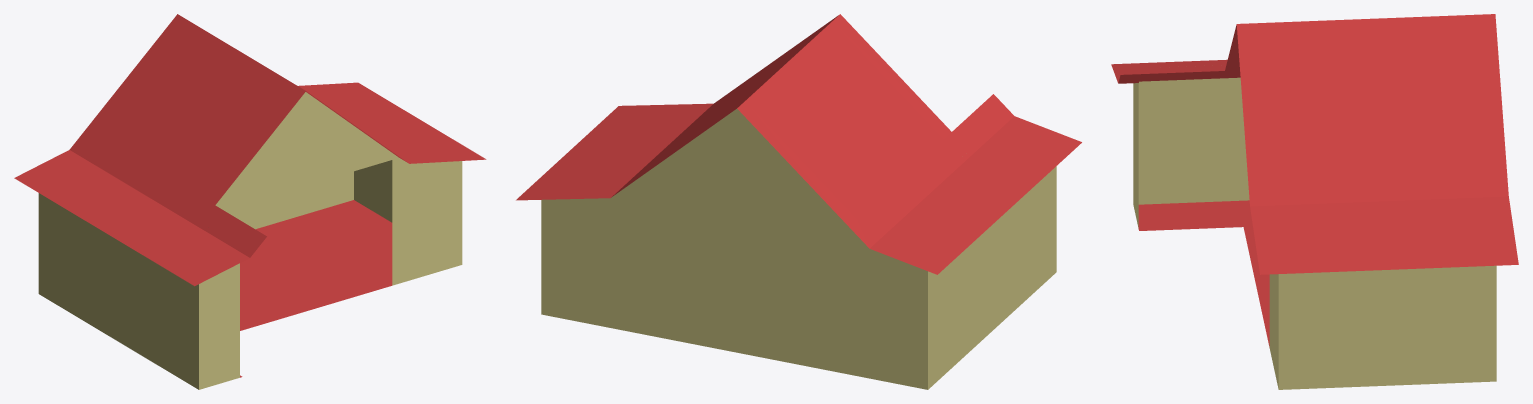
3 views of the same model, side by side, from view 1: azimuth 30°, elevation 25°; view 2: azimuth 150°, elevation 25°; view 3: azimuth 270°, elevation 25° (orthographic). The views are drawn at different scales.
Size of the model in its own units: 18.72 by 14.91 by 10.78.
